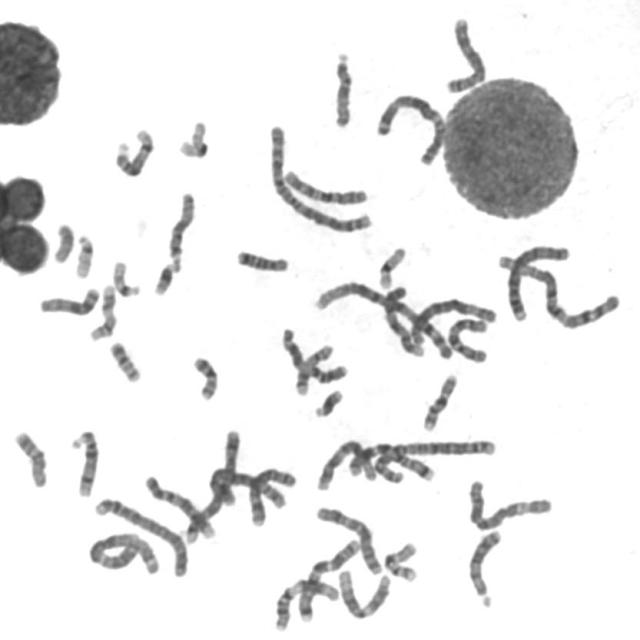A1: (308, 277, 457, 361), (496, 246, 622, 330)
A2: (264, 119, 375, 236), (367, 434, 498, 486)
A3: (372, 88, 449, 167), (84, 527, 163, 577)
B4: (90, 494, 190, 580), (502, 240, 574, 324)
B5: (179, 424, 244, 544), (208, 465, 290, 513)
C10: (279, 165, 370, 208), (443, 313, 490, 365)
C11: (278, 323, 350, 385), (271, 574, 341, 633)
C12: (312, 436, 378, 493), (337, 569, 392, 620)
C6: (463, 475, 555, 533), (405, 293, 499, 348)
C7: (294, 534, 364, 624), (341, 437, 438, 484)
C8: (442, 11, 488, 94), (247, 467, 300, 528)
C9: (141, 472, 218, 542), (379, 280, 428, 359)
D13: (464, 525, 505, 609), (34, 283, 100, 318)
D14: (66, 426, 100, 499), (111, 124, 156, 179)
D15: (164, 188, 198, 264), (329, 47, 355, 130)
E16: (419, 369, 460, 434), (380, 537, 420, 583)
E17: (292, 340, 335, 397), (85, 280, 119, 343)
E18: (10, 426, 50, 489), (232, 246, 290, 274)
F19: (174, 116, 212, 160), (374, 243, 409, 290)
F20: (105, 337, 143, 384), (189, 351, 220, 402)
G21: (149, 256, 181, 298), (310, 386, 345, 420)
G22: (108, 256, 143, 299), (70, 230, 96, 280)
X: (312, 502, 385, 576)
Y: (51, 223, 78, 265)
